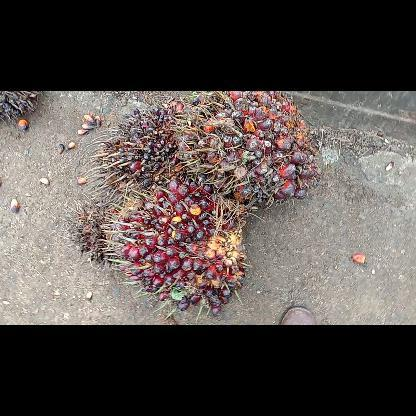TBS abnormal: (90, 104, 188, 214), (63, 192, 121, 270)
TBS masak: (96, 174, 252, 318), (168, 90, 320, 214)
